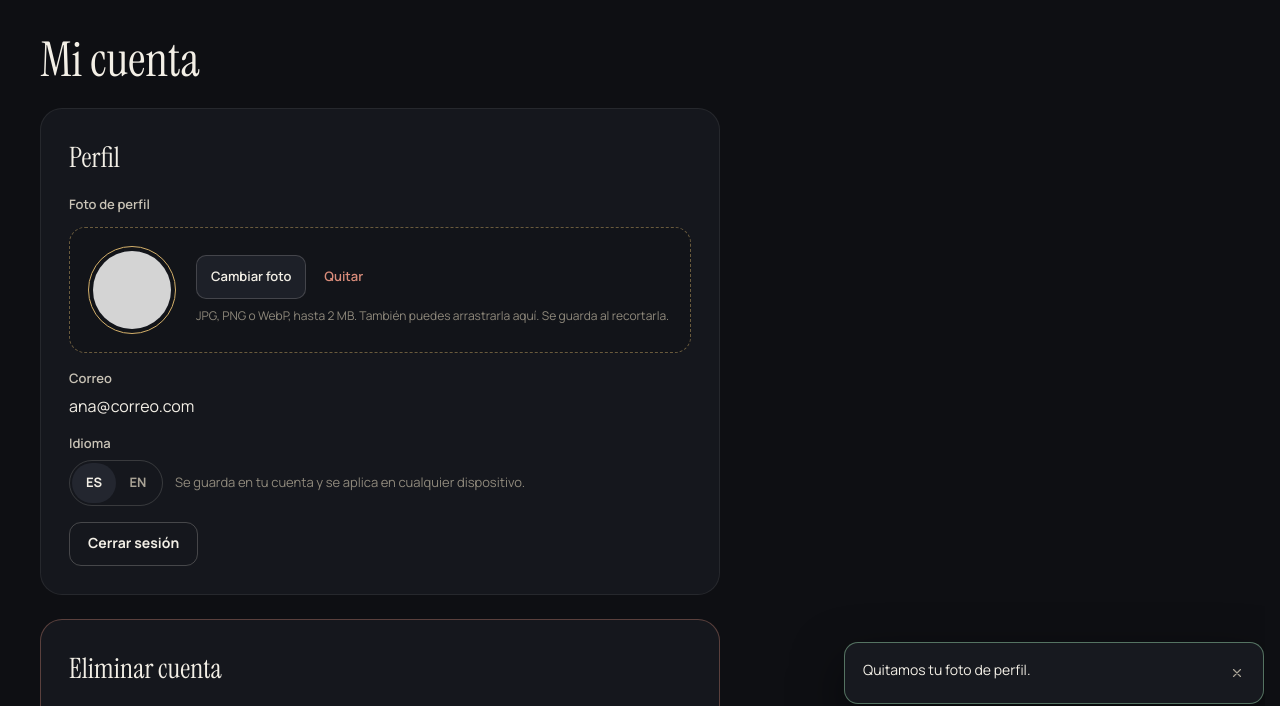
Test case: AccountView · foto de perfil › si quitar falla avisa y conserva la foto
The width and height of the screenshot is (1280, 706).
Click the button "Quitar". click: (344, 276)
box: [314, 254, 373, 298]
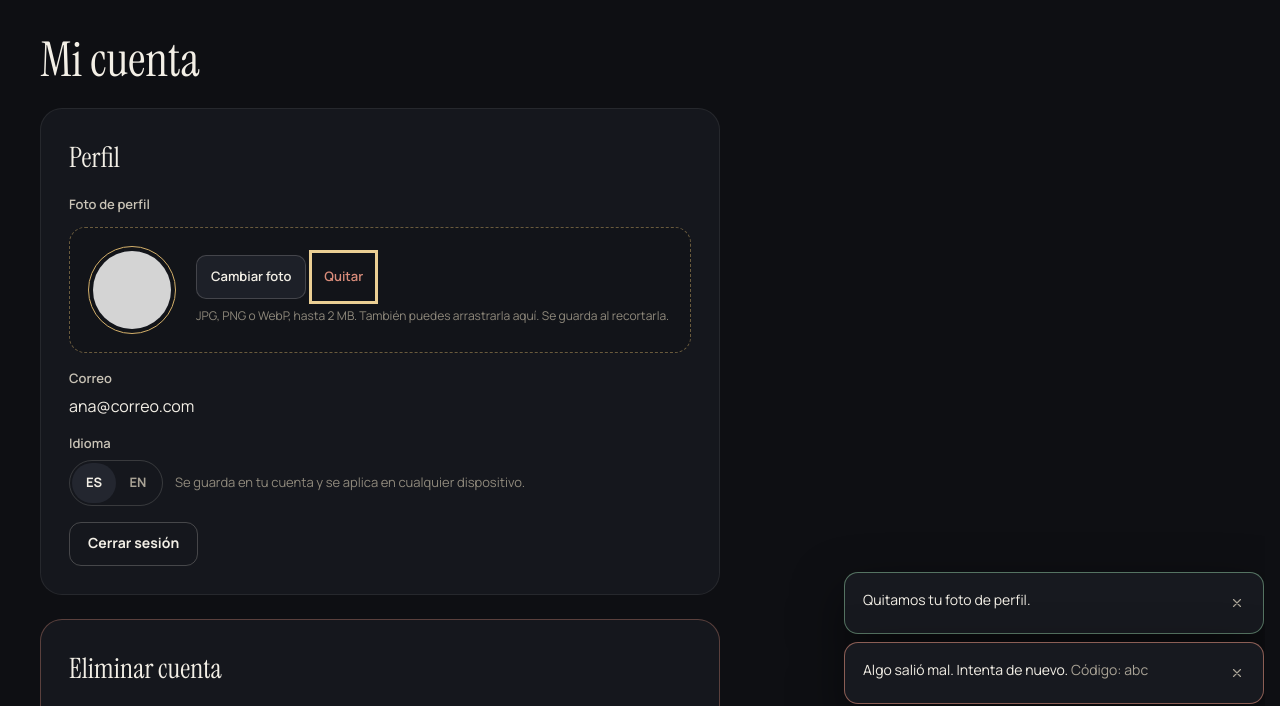
Expected: the text "Algo salió mal. Intenta de nuevo. Código: abc" is shown, [863, 660, 1148, 679]
